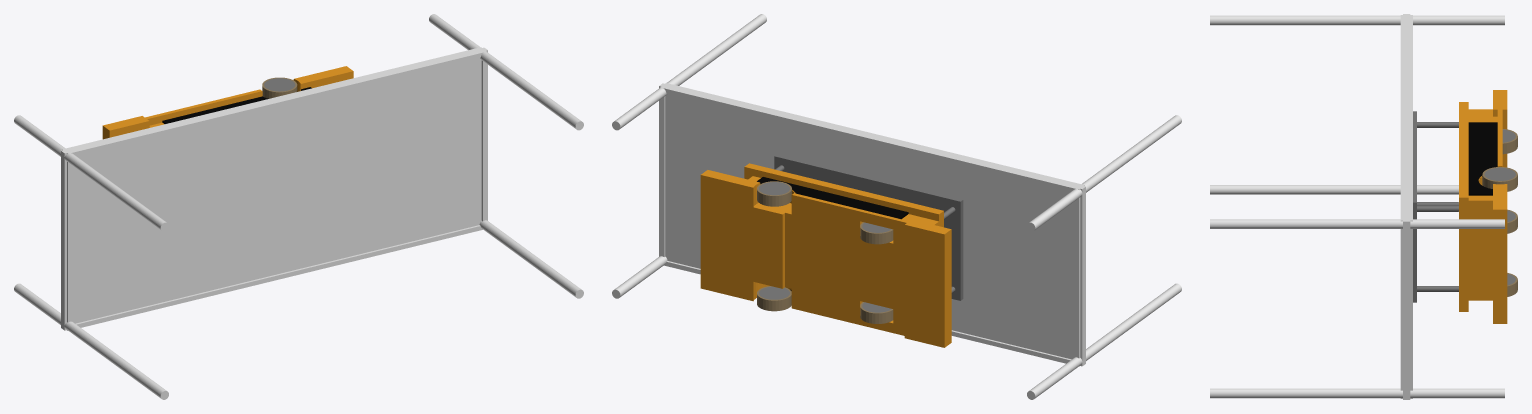
File: ackermann_robot_with_shelf.dae
3 views of the same model, side by side, from view 1: azimuth 30°, elevation 25°; view 2: azimuth 150°, elevation 25°; view 3: azimuth 270°, elevation 25° (orthographic).
Visible parts, largest first — view 1: base; view 2: base; view 3: base.
Part boxes in pixels (x1,y1,x2,y2): base: (14, 14, 583, 399); base: (612, 14, 1181, 399); base: (1210, 14, 1517, 399).
Bounding box in the file's own units: 2 × 1.25 × 0.8.
